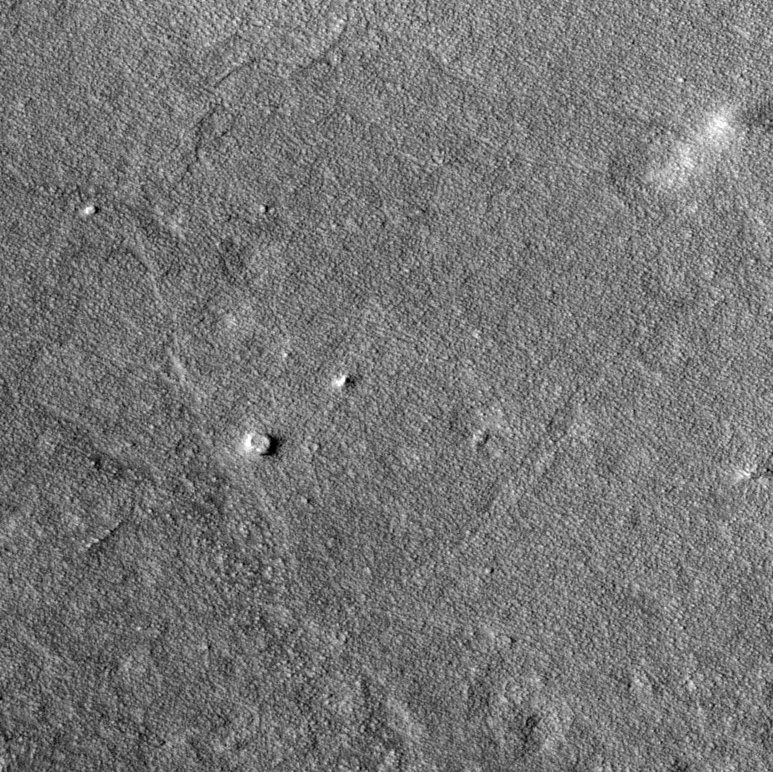dust_devil: (646, 93, 773, 194)
